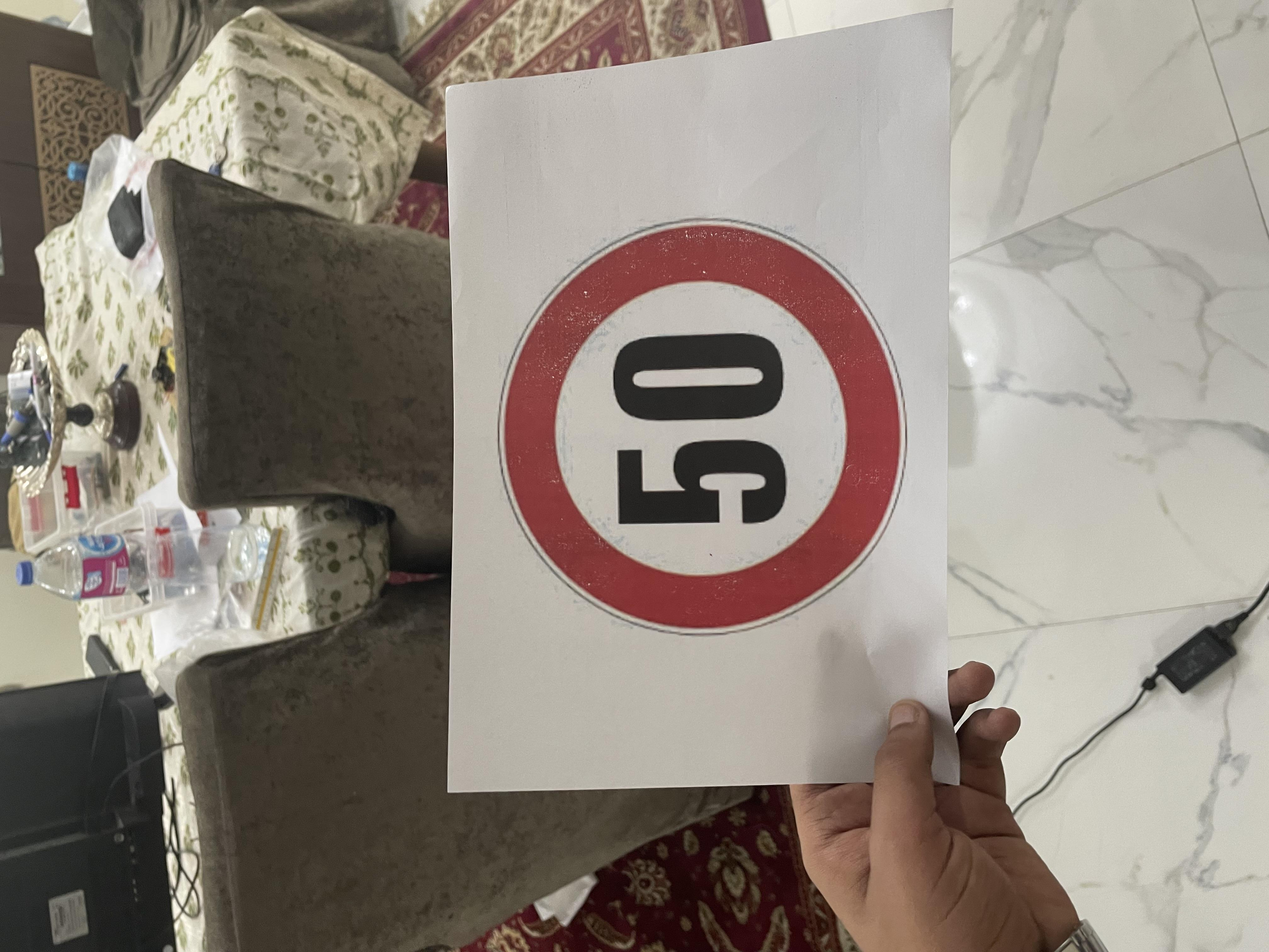50-Speed: (425, 371, 982, 681)
